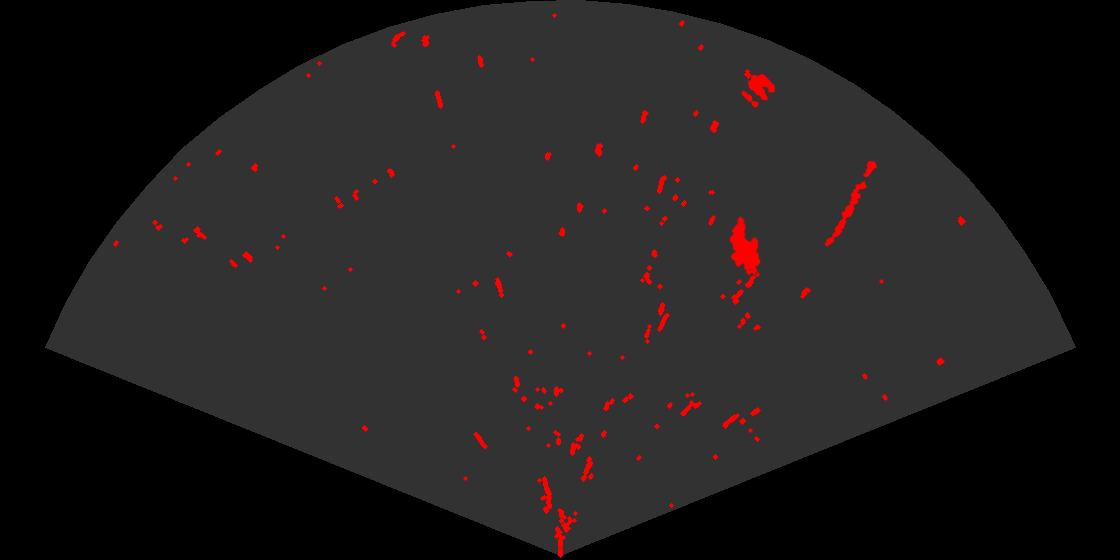AUV: (728, 214, 762, 277)
ball: (740, 72, 777, 109)
chain: (823, 159, 878, 248)
